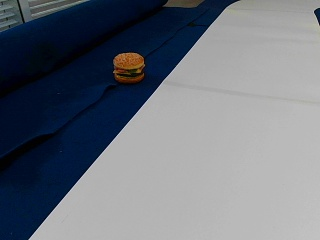burger: (113, 51, 145, 82)
